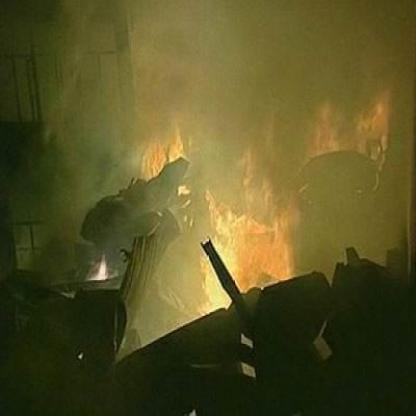fire: (134, 65, 390, 292)
